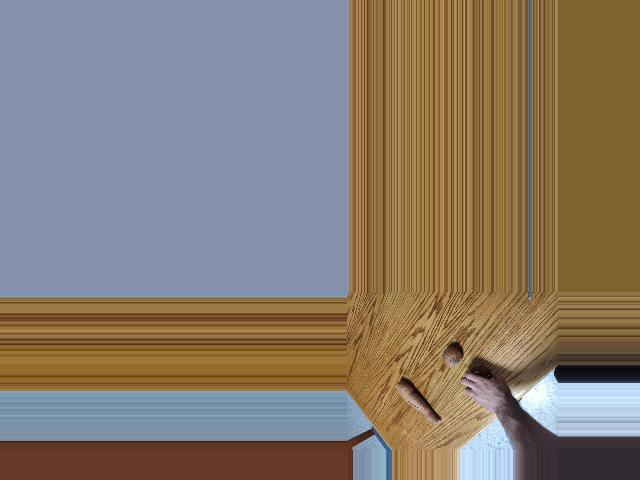onion: (470, 367, 493, 388)
